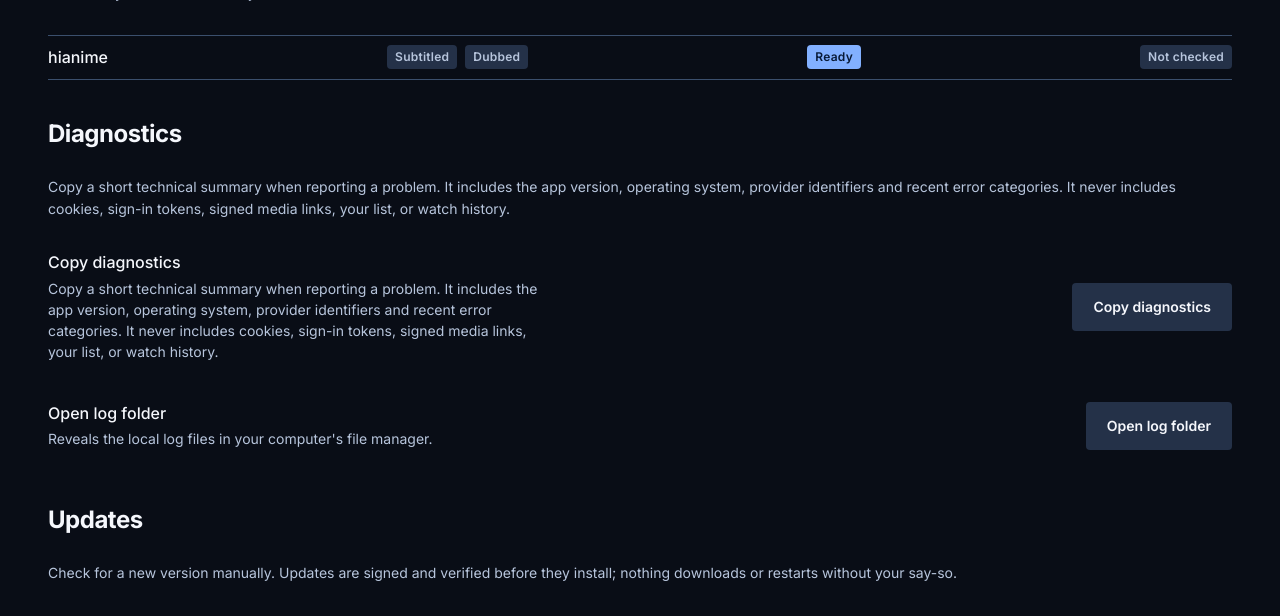
it: Preferences diagnostics › copies only after a deliberate click, never on render
(page scrolled)
Step 1. Click the button "Copy diagnostics" → (1152, 307), box x1=1072 y1=283 x2=1232 y2=331
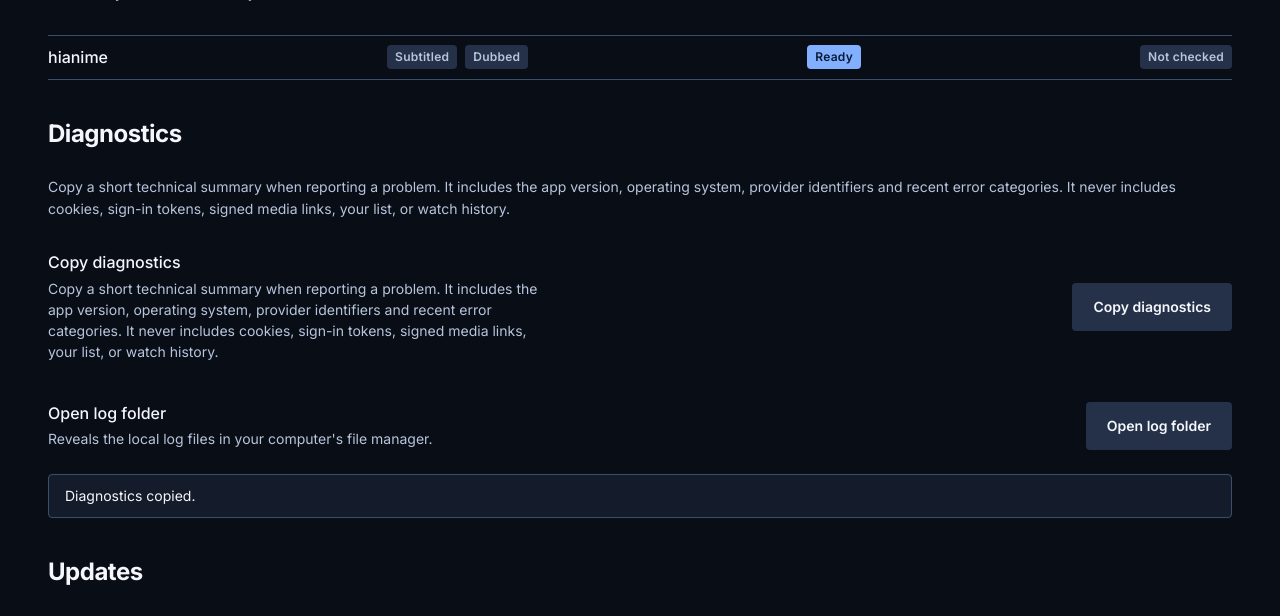
Check: the text "Diagnostics copied." is shown, box x1=65 y1=487 x2=195 y2=504
